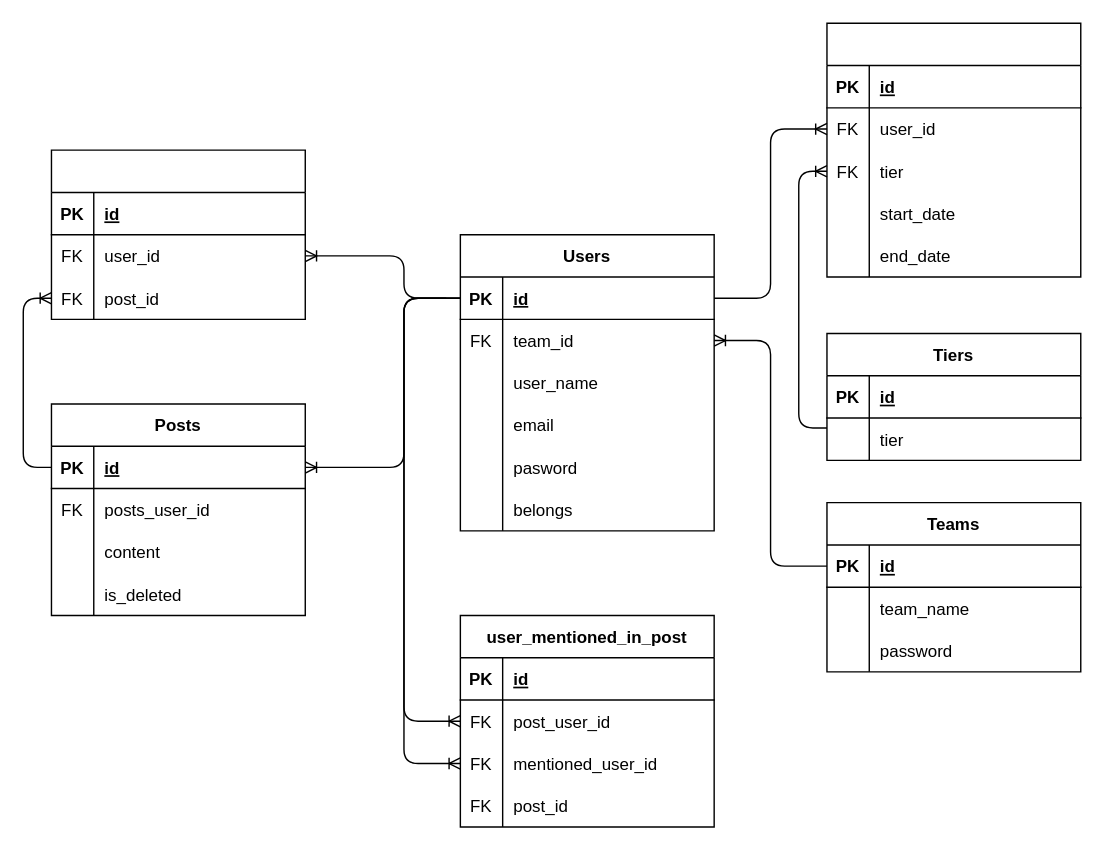
Image size: 1104x850. Some labels were removed from this diagram. Each missing label, with the box of its shape:
user_has_tiers: (826, 22, 1081, 277)
user_like: (50, 149, 305, 319)
